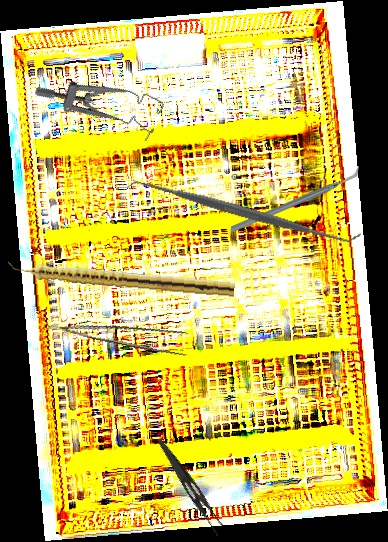Chopper: (231, 165, 359, 234)
Dressing Forceps: (146, 437, 232, 539)
Handpiece: (6, 258, 236, 297)
Spatula Surgical: (125, 165, 363, 258)
Speculum: (32, 47, 169, 153)
Tissue Forceps: (47, 302, 196, 361)
